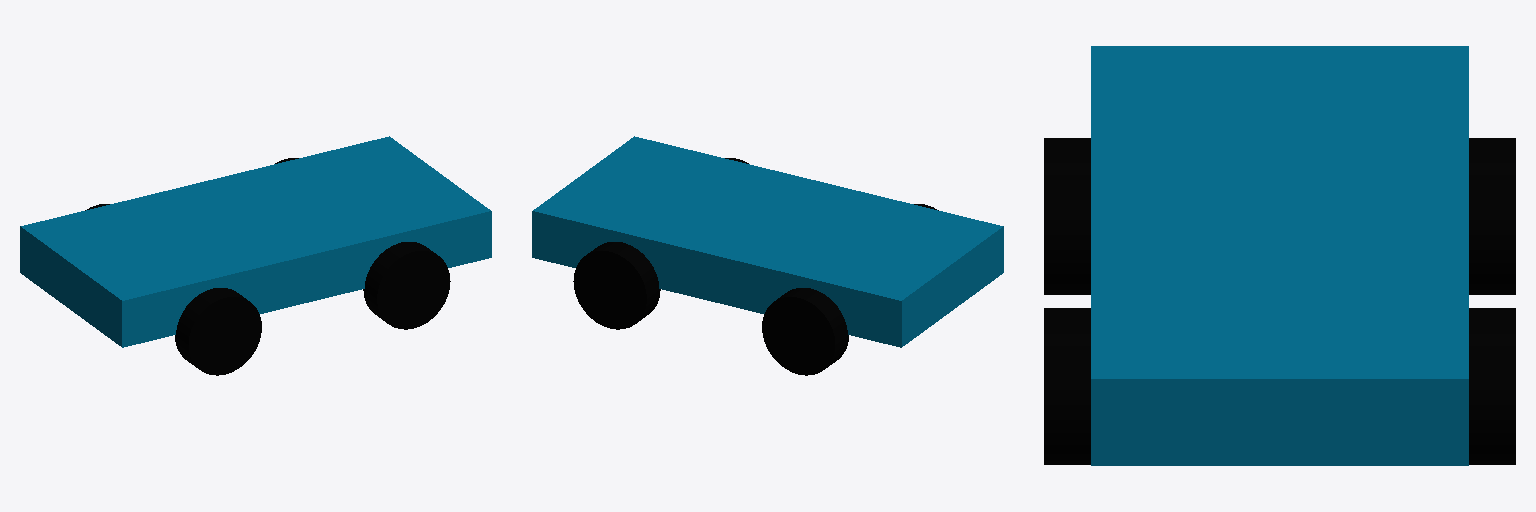
robot.urdf — baja_vehicle:
<?xml version="1.0"?>
<robot name="baja_vehicle">
  <material name="body"><color rgba="0.04 0.48 0.62 1"/></material><material name="tire"><color rgba="0.035 0.035 0.035 1"/></material>
  <link name="base_link"><visual><origin xyz="0 0 0"/><geometry><box size="2.8 1.34 0.34"/></geometry><material name="body"/></visual></link>
  <link name="rear_left_wheel"><visual><origin rpy="1.570796 0 0"/><geometry><cylinder radius="0.279" length="0.18"/></geometry><material name="tire"/></visual></link>
  <link name="rear_right_wheel"><visual><origin rpy="1.570796 0 0"/><geometry><cylinder radius="0.279" length="0.18"/></geometry><material name="tire"/></visual></link>
  <link name="front_left_steering"/><link name="front_right_steering"/>
  <link name="front_left_wheel"><visual><origin rpy="1.570796 0 0"/><geometry><cylinder radius="0.279" length="0.18"/></geometry><material name="tire"/></visual></link>
  <link name="front_right_wheel"><visual><origin rpy="1.570796 0 0"/><geometry><cylinder radius="0.279" length="0.18"/></geometry><material name="tire"/></visual></link>
  <joint name="rear_left_wheel_joint" type="continuous"><parent link="base_link"/><child link="rear_left_wheel"/><origin xyz="-0.715 0.745 -0.178"/><axis xyz="0 1 0"/></joint>
  <joint name="rear_right_wheel_joint" type="continuous"><parent link="base_link"/><child link="rear_right_wheel"/><origin xyz="-0.715 -0.745 -0.178"/><axis xyz="0 1 0"/></joint>
  <joint name="front_left_steering_joint" type="revolute"><parent link="base_link"/><child link="front_left_steering"/><origin xyz="0.715 0.655 -0.178"/><axis xyz="0 0 1"/><limit lower="-0.7" upper="0.7" effort="180" velocity="2.5"/></joint>
  <joint name="front_right_steering_joint" type="revolute"><parent link="base_link"/><child link="front_right_steering"/><origin xyz="0.715 -0.655 -0.178"/><axis xyz="0 0 1"/><limit lower="-0.7" upper="0.7" effort="180" velocity="2.5"/></joint>
  <joint name="front_left_wheel_joint" type="continuous"><parent link="front_left_steering"/><child link="front_left_wheel"/><origin xyz="0 0.09 0"/><axis xyz="0 1 0"/></joint>
  <joint name="front_right_wheel_joint" type="continuous"><parent link="front_right_steering"/><child link="front_right_wheel"/><origin xyz="0 -0.09 0"/><axis xyz="0 1 0"/></joint>
</robot>

--- Render facts (derived) ---
Views: 3 orthographic renders of the robot side by side, from view 1: azimuth 30°, elevation 25°; view 2: azimuth 150°, elevation 25°; view 3: azimuth 270°, elevation 25°.
Model baja_vehicle with 7 links and 6 joints (2 revolute, 4 continuous), rooted at base_link, posed all joints at 0.
Links seen in each view (by area): view 1: base_link, rear_right_wheel, front_right_wheel; view 2: base_link, rear_left_wheel, front_left_wheel; view 3: base_link, rear_left_wheel, rear_right_wheel, front_left_wheel, front_right_wheel.
Link boxes in pixels (left/top/right/bottom): base_link: left=20, top=136, right=491, bottom=347; rear_right_wheel: left=175, top=288, right=261, bottom=375; front_right_wheel: left=363, top=242, right=450, bottom=329; base_link: left=532, top=136, right=1003, bottom=347; rear_left_wheel: left=762, top=288, right=848, bottom=375; front_left_wheel: left=573, top=242, right=660, bottom=329; base_link: left=1091, top=46, right=1468, bottom=465; rear_left_wheel: left=1469, top=138, right=1515, bottom=294; rear_right_wheel: left=1044, top=138, right=1090, bottom=294; front_left_wheel: left=1469, top=308, right=1515, bottom=464; front_right_wheel: left=1044, top=308, right=1090, bottom=464.
Size in the robot's own frame: 2.8 by 1.67 by 0.627 metres.
Geometry: primitives only (box / cylinder / sphere), no mesh files.
